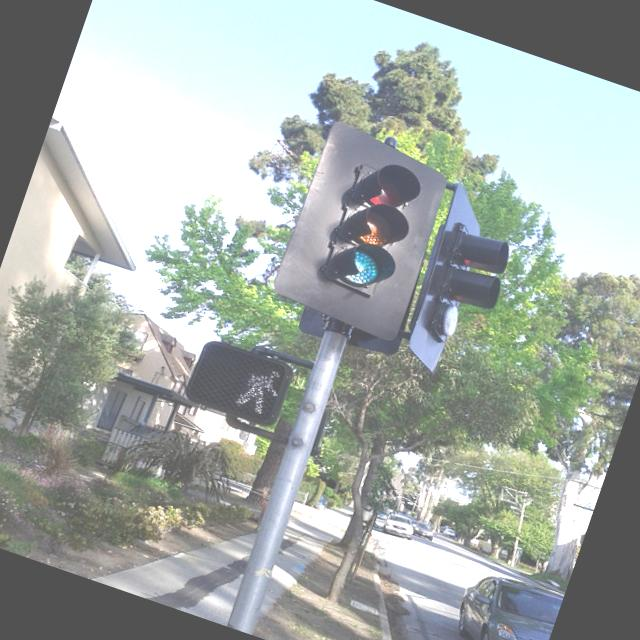Vehicle: (437, 559, 564, 640), (380, 511, 418, 542), (406, 519, 436, 542), (437, 524, 460, 544), (438, 524, 451, 534), (376, 513, 386, 520)
